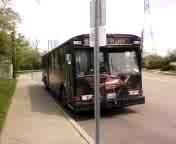bus: (42, 34, 146, 113)
